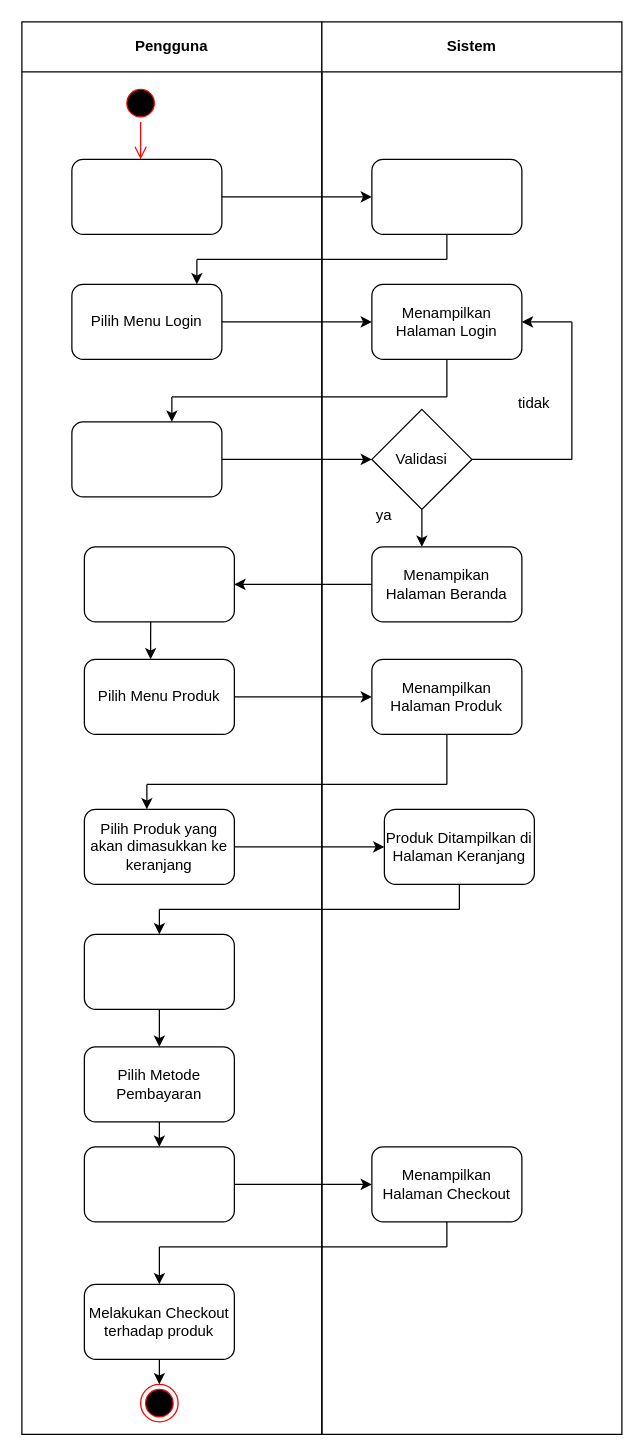
This 644x1456 diagram has some shape labels left out. Each missing label, with the box of its shape:
Masukkan Username dan Password: (71, 421, 222, 497)
Melihat Halaman Beranda: (83, 546, 234, 622)
Membuka Website: (71, 158, 222, 234)
Menampilkan Halaman Beranda: (371, 158, 522, 234)
Pilih Alamat Tujuan: (83, 933, 234, 1009)
Pilih Checkout: (83, 1146, 234, 1222)
